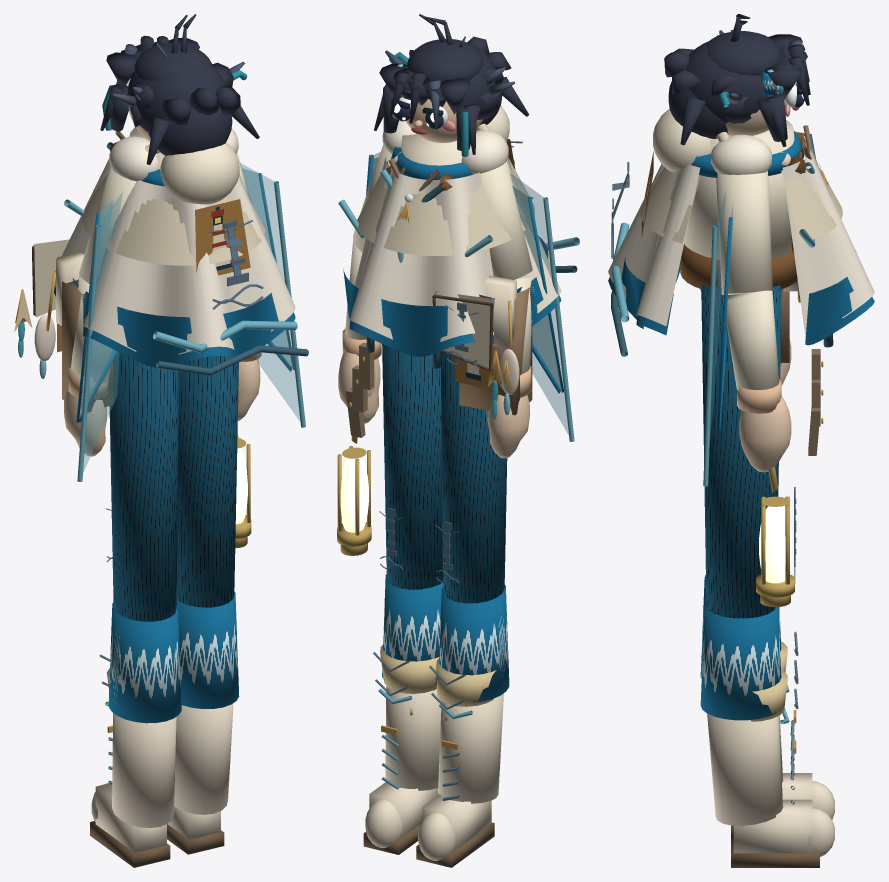
Rendered from xy_char_turnaround_replica.glb.
3 views of the same model, side by side, from view 1: azimuth 30°, elevation 25°; view 2: azimuth 150°, elevation 25°; view 3: azimuth 270°, elevation 25° (orthographic). The views are drawn at different scales.
Visible parts, largest first — view 1: Cape, Body, ShinL, LegL, LegR, ShinR, XYTR_translucent_side_cape_R, XYTR_translucent_side_cape_L, ForeArmL, ForeArmR, CapeBackEmblem, CapeSideTailL (+8 smaller); view 2: Cape, ShinL, Body, ShinR, LegR, LegL, ForeArmR, ArmL, XYTR_translucent_side_cape_L, ForeArmL, CapeSideTailL, XYTR_satchel_front_flap_overlay (+7 smaller); view 3: Cape, ShinR, Body, LegR, ForeArmR, ArmR, ShinL, XYTR_side_cape_edge_1, XYTR_translucent_side_cape_R, CapeSideTailR, XYTR_cape_back_wave_0, XYTR_hair_lock_back_r.
Boxes of the visible parts, x1,y1,x2,y2 form: Cape: (54,128,295,367); Body: (56,14,240,412); ShinL: (90,602,181,867); LegL: (109,352,178,621); LegR: (176,355,238,607); ShinR: (167,591,239,854); XYTR_translucent_side_cape_R: (240,163,300,421); XYTR_translucent_side_cape_L: (83,192,122,472); ForeArmL: (64,275,112,456); ForeArmR: (235,352,261,548); CapeBackEmblem: (195,199,250,275); CapeSideTailL: (76,200,117,422); Cape: (343,120,561,356); ShinL: (416,584,509,867); Body: (379,14,532,415); ShinR: (363,574,442,854); LegR: (382,344,442,589); LegL: (440,352,507,603); ForeArmR: (337,240,381,555); ArmL: (474,161,532,279); XYTR_translucent_side_cape_L: (510,173,568,434); ForeArmL: (486,277,532,458); CapeSideTailL: (512,186,563,393); XYTR_satchel_front_flap_overlay: (435,291,494,367); Cape: (608,131,874,345); ShinR: (700,602,834,867); Body: (653,20,807,363); LegR: (701,285,781,618); ForeArmR: (723,290,794,607); ArmR: (716,171,772,294); ShinL: (700,574,834,836); XYTR_side_cape_edge_1: (703,226,717,486); XYTR_translucent_side_cape_R: (710,190,726,437); CapeSideTailR: (716,203,733,430); XYTR_cape_back_wave_0: (611,222,629,322); XYTR_hair_lock_back_r: (680,98,705,145).
Size of the model in its own units: 0.7279 by 2.54 by 0.7331.
53 materials, 3 textured.
